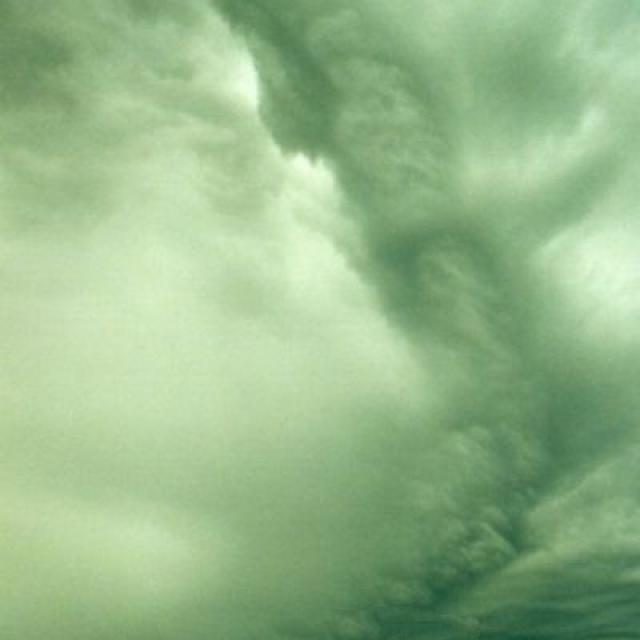Ns: (1, 70, 640, 615)
